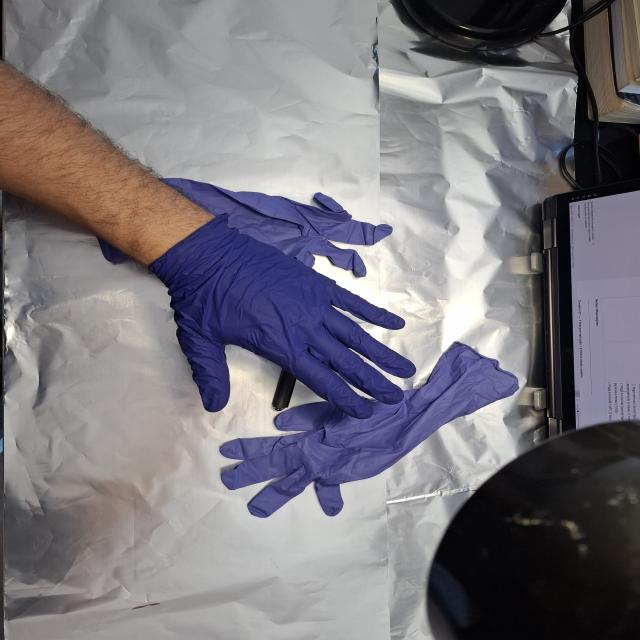glove_on: (148, 212, 419, 421)
